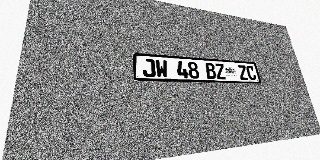plate: (133, 53, 261, 83)
